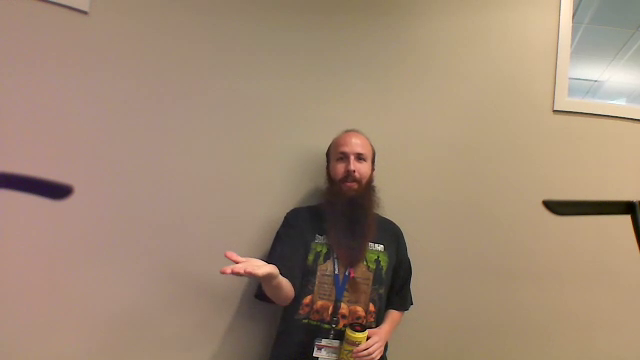land: (216, 246, 281, 286)
